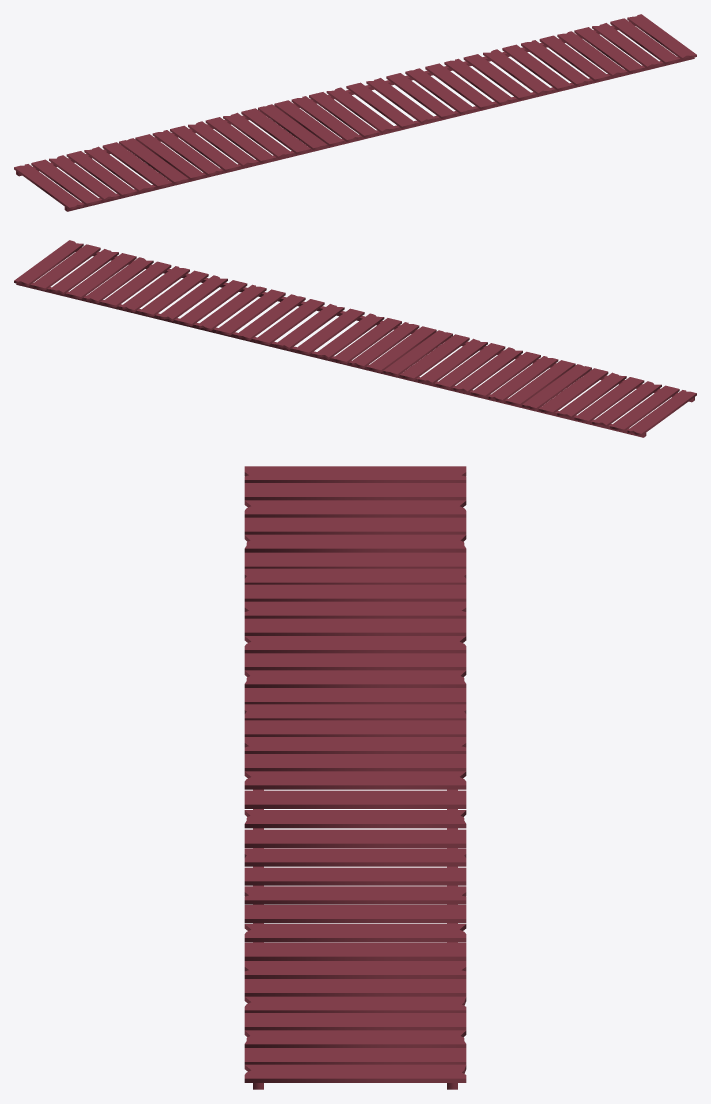
Rendered from pontegrande.fbx.
3 views of the same model, one above another, from view 1: azimuth 30°, elevation 25°; view 2: azimuth 150°, elevation 25°; view 3: azimuth 270°, elevation 25° (orthographic). The views are drawn at different scales.
Parts seen in each view (by area): view 1: pontegrande; view 2: pontegrande; view 3: pontegrande.
Part boxes in pixels (left/top/right/bottom): pontegrande: left=14, top=14, right=696, bottom=211; pontegrande: left=14, top=240, right=696, bottom=437; pontegrande: left=244, top=466, right=466, bottom=1089.
Bounding box in the file's own units: 1606 × 13.77 × 246.
